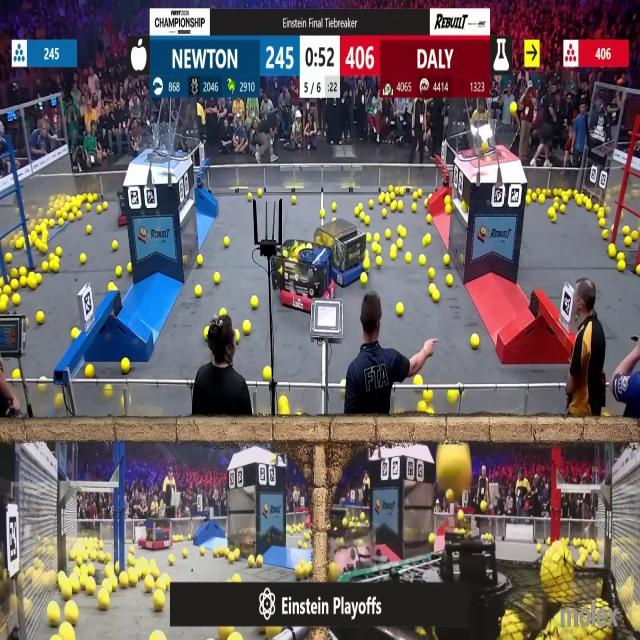ball_airborne: (450, 446, 470, 480), (482, 142, 490, 155), (447, 490, 454, 502), (481, 500, 488, 512), (511, 103, 518, 114), (458, 512, 464, 522)
ball_ground: (47, 606, 60, 628), (66, 603, 78, 624), (152, 592, 164, 611), (61, 624, 75, 640), (100, 593, 110, 610), (328, 563, 338, 580), (88, 581, 98, 596), (62, 585, 72, 600), (120, 357, 129, 372), (145, 579, 154, 593), (130, 571, 139, 585), (449, 390, 458, 404), (118, 573, 127, 587), (265, 365, 273, 379), (87, 363, 95, 377), (470, 336, 478, 350), (243, 320, 251, 334), (294, 565, 302, 579), (110, 578, 118, 592), (56, 394, 64, 408), (163, 574, 171, 588), (304, 562, 312, 576), (49, 262, 58, 274), (105, 564, 114, 576), (608, 245, 616, 258), (36, 312, 44, 325), (424, 390, 433, 401), (0, 300, 7, 314), (71, 327, 79, 339), (359, 274, 367, 286), (11, 293, 19, 305), (28, 278, 36, 290), (418, 400, 426, 412), (251, 295, 258, 308), (280, 408, 289, 418), (279, 396, 288, 406), (18, 278, 26, 289), (151, 632, 162, 640), (193, 285, 200, 297), (213, 273, 220, 285), (11, 279, 18, 291), (194, 255, 202, 265), (39, 244, 47, 254), (396, 304, 402, 317), (419, 254, 426, 265), (619, 262, 626, 273), (115, 267, 122, 278), (248, 556, 255, 567), (424, 235, 431, 246), (234, 573, 242, 582), (256, 555, 262, 567), (428, 269, 434, 281), (390, 248, 396, 260), (576, 558, 584, 567), (447, 276, 454, 286), (406, 252, 413, 262), (12, 368, 19, 378), (3, 285, 10, 295), (89, 564, 96, 574), (586, 202, 593, 212), (105, 385, 112, 395), (232, 633, 242, 640), (445, 254, 451, 265), (363, 261, 369, 272), (432, 291, 438, 302), (377, 255, 383, 266), (236, 333, 242, 344), (428, 533, 434, 544), (593, 553, 599, 564), (415, 376, 422, 385), (18, 268, 25, 277), (428, 285, 435, 294), (445, 197, 452, 206), (42, 264, 48, 274), (602, 231, 608, 241), (170, 555, 176, 565), (599, 218, 605, 228), (5, 252, 11, 262), (108, 282, 114, 292), (375, 234, 381, 244), (632, 232, 638, 242), (397, 202, 403, 212), (36, 274, 42, 284), (399, 229, 405, 239), (396, 240, 402, 250), (380, 193, 386, 203), (227, 554, 233, 564), (152, 568, 158, 578), (130, 556, 136, 566), (445, 206, 452, 214), (619, 252, 626, 260), (115, 562, 120, 573), (88, 224, 94, 233), (538, 196, 544, 205), (365, 234, 371, 243), (235, 551, 241, 560), (376, 245, 382, 254), (385, 198, 391, 207), (48, 218, 54, 227), (182, 255, 188, 264), (88, 192, 94, 201), (38, 383, 44, 392), (80, 253, 85, 263), (112, 241, 117, 251), (391, 202, 396, 212), (361, 214, 366, 224), (626, 238, 632, 246), (426, 215, 432, 223), (560, 206, 566, 214), (220, 308, 226, 316), (354, 208, 360, 216), (290, 198, 296, 206), (624, 226, 630, 234), (68, 213, 74, 221), (547, 209, 553, 217), (562, 197, 568, 205), (371, 244, 377, 252), (526, 198, 532, 206), (413, 191, 419, 199), (88, 204, 94, 212), (94, 192, 100, 200), (212, 551, 218, 559), (386, 231, 391, 240), (331, 203, 336, 212), (320, 209, 325, 218), (413, 204, 418, 213), (536, 542, 541, 551), (418, 188, 423, 197), (383, 209, 388, 218), (60, 218, 66, 225), (48, 253, 54, 260), (398, 188, 404, 195), (224, 238, 228, 248), (636, 266, 640, 276), (182, 550, 187, 558), (98, 206, 103, 214), (247, 192, 252, 200), (555, 202, 560, 210), (205, 328, 209, 338), (576, 199, 581, 207), (428, 408, 433, 416), (129, 265, 133, 274), (201, 546, 205, 555), (257, 189, 262, 196), (552, 216, 557, 223), (358, 204, 363, 211), (554, 188, 559, 195), (535, 187, 540, 194), (527, 188, 532, 195), (58, 248, 62, 256), (368, 201, 372, 209), (0, 278, 4, 286), (532, 192, 536, 200), (130, 544, 134, 552), (545, 537, 549, 545), (304, 542, 309, 548), (104, 203, 108, 210), (424, 201, 428, 208), (297, 540, 301, 547), (50, 636, 57, 640), (331, 216, 335, 223), (306, 534, 310, 540), (188, 534, 192, 540)
goal: (466, 123, 522, 160), (128, 130, 188, 160)
robot_blue: (330, 218, 369, 286)
robot_red: (272, 241, 330, 312), (138, 518, 173, 548)
